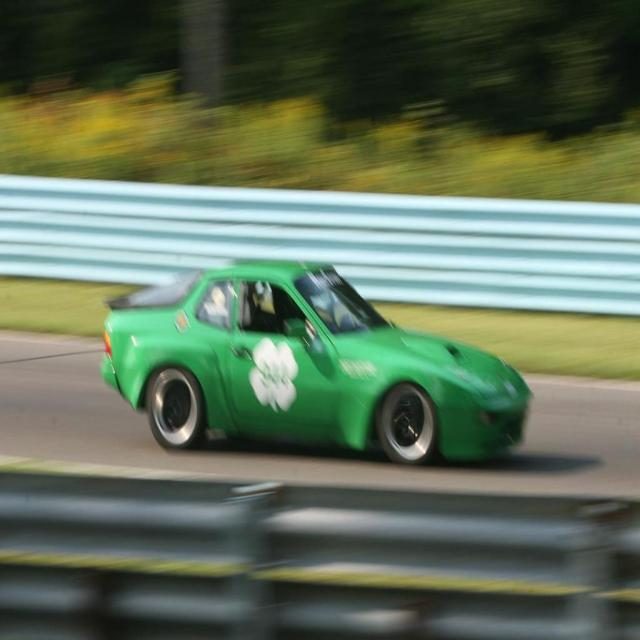car: (83, 255, 535, 468)
